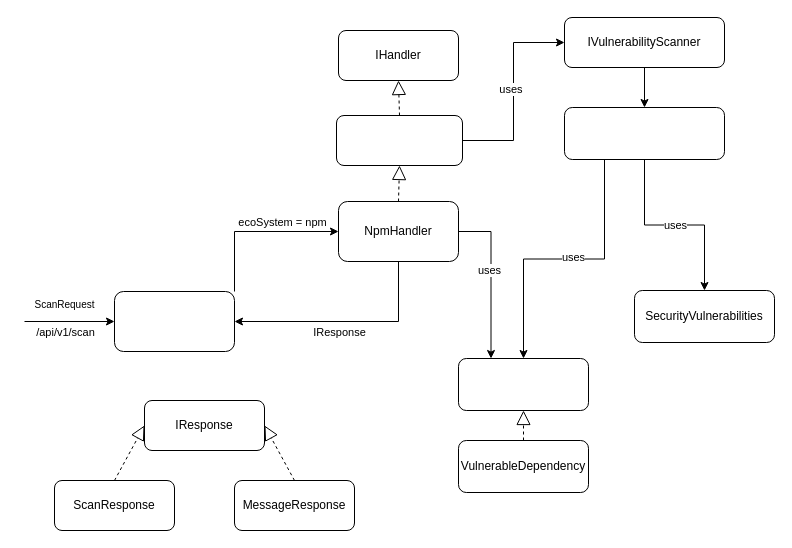
This 792x548 diagram has some shape labels left out. Each missing label, with the centre of its shape:
BaseHandler: (399,140)
Dependency: (523,384)
GithubVulnerabilityScanner: (644,133)
ScanController: (174,321)
